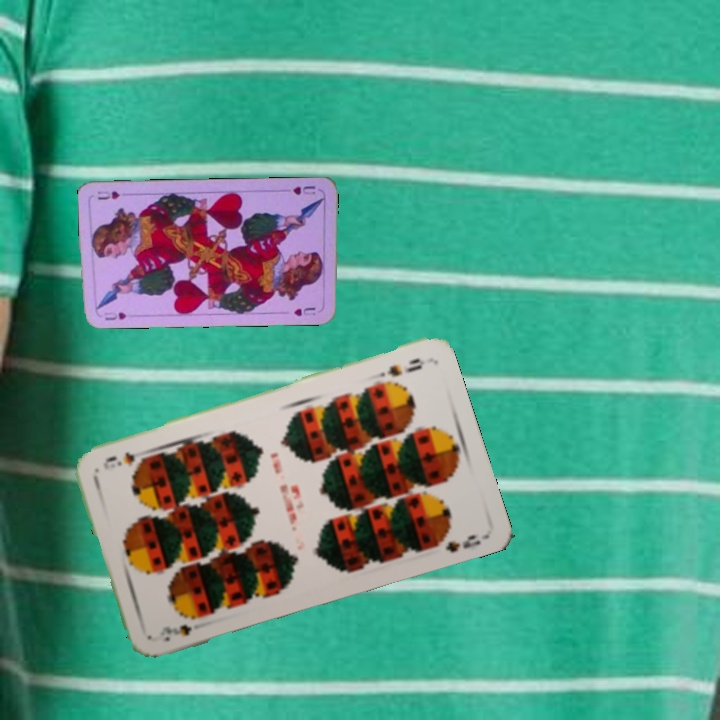HU: (289, 182, 318, 197), (100, 308, 129, 323)
S9: (383, 354, 427, 379), (155, 620, 195, 644)
